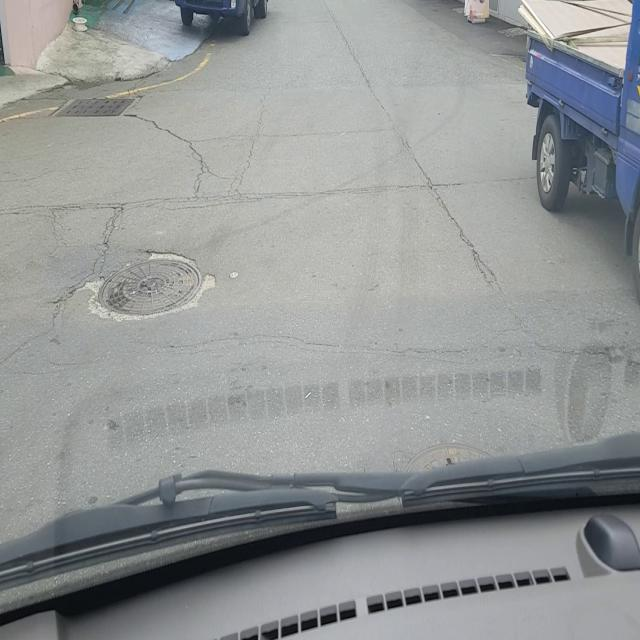pothole: (72, 249, 217, 326)
